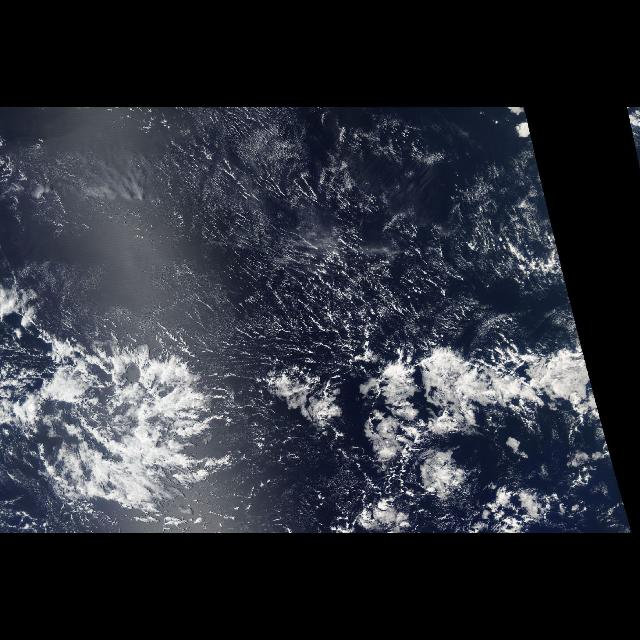Fish: (2, 324, 302, 524)
Flower: (251, 341, 634, 533)
Sugar: (0, 112, 580, 338)
